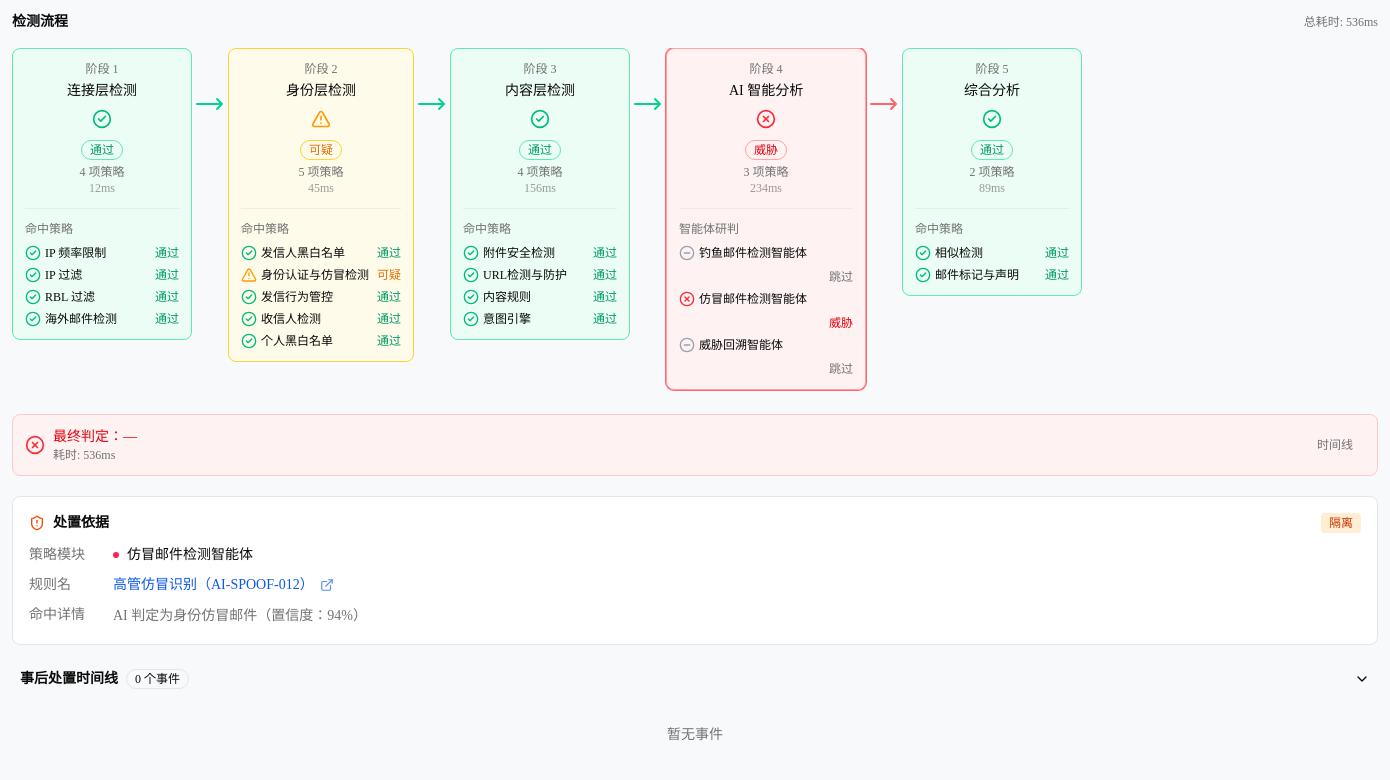
Test: AnalysisSection (v2 spec alignment) › renders all 5 stage cards default-expanded (gap 2.1/2.2)
Expected: the element with test id "analysis-stage-1-detail" is shown, x1=25 y1=208 x2=179 y2=339
Expected: the button with test id "analysis-stage-2" is shown, x1=229 y1=49 x2=413 y2=208
// Clicking a card collapses only that card's own detail.
Click the button with test id "analysis-stage-1" at coordinates (102, 128), box x1=13 y1=49 x2=191 y2=208
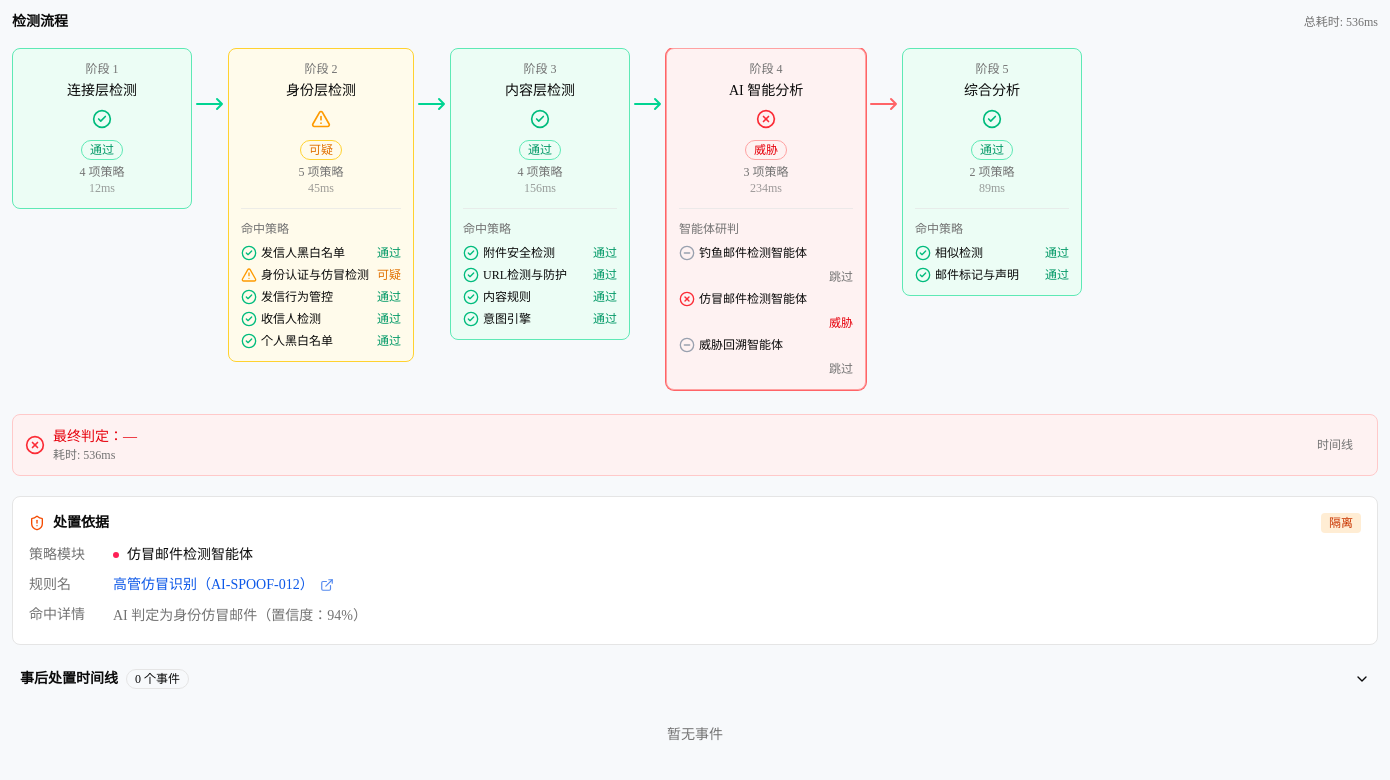
Expected: the element with test id "analysis-stage-2-detail" is shown, x1=241 y1=208 x2=401 y2=361
Expected: the element with test id "analysis-stage-1-detail" is gone
